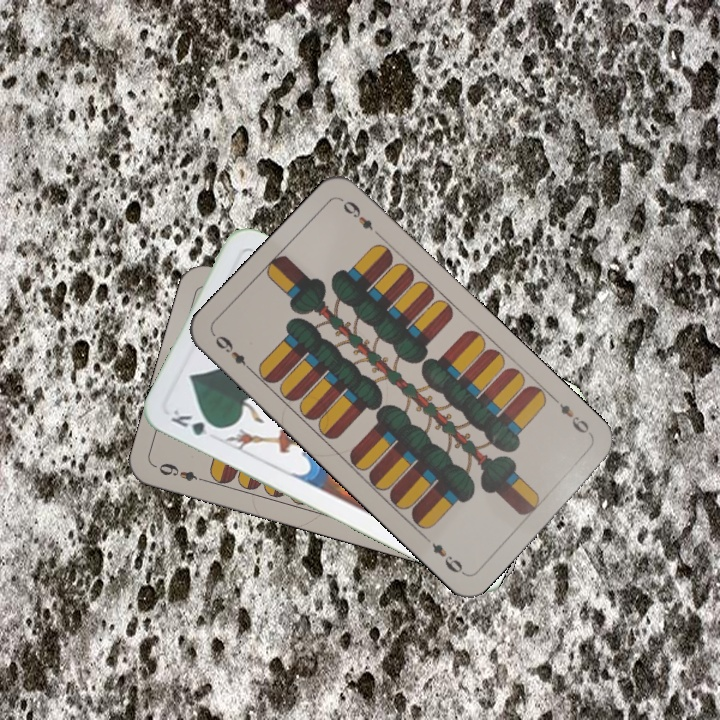E9: (210, 330, 257, 376), (550, 394, 596, 441), (154, 459, 210, 485)
GK: (167, 405, 224, 439)
